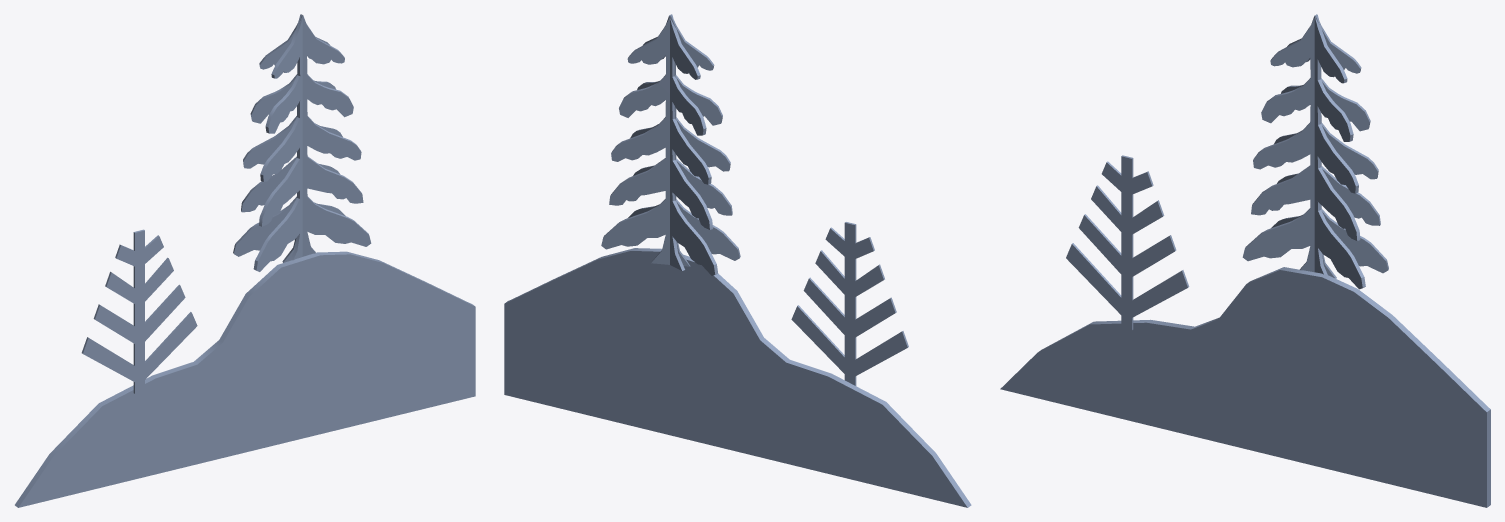
The model's file is frame_0140.glb.
3 views of the same model, side by side, from view 1: azimuth 30°, elevation 25°; view 2: azimuth 150°, elevation 25°; view 3: azimuth 330°, elevation 25° (orthographic). The views are drawn at different scales.
Parts seen in each view (by area): view 1: export_trees_001.002; view 2: export_trees_001.002; view 3: export_trees_001.002.
Part boxes in pixels (<box>): export_trees_001.002: <box>15,14,475,507</box>; export_trees_001.002: <box>504,14,971,507</box>; export_trees_001.002: <box>1000,14,1490,507</box>.
Bounding box in the file's own units: 0.3001 × 0.2619 × 0.0288.
